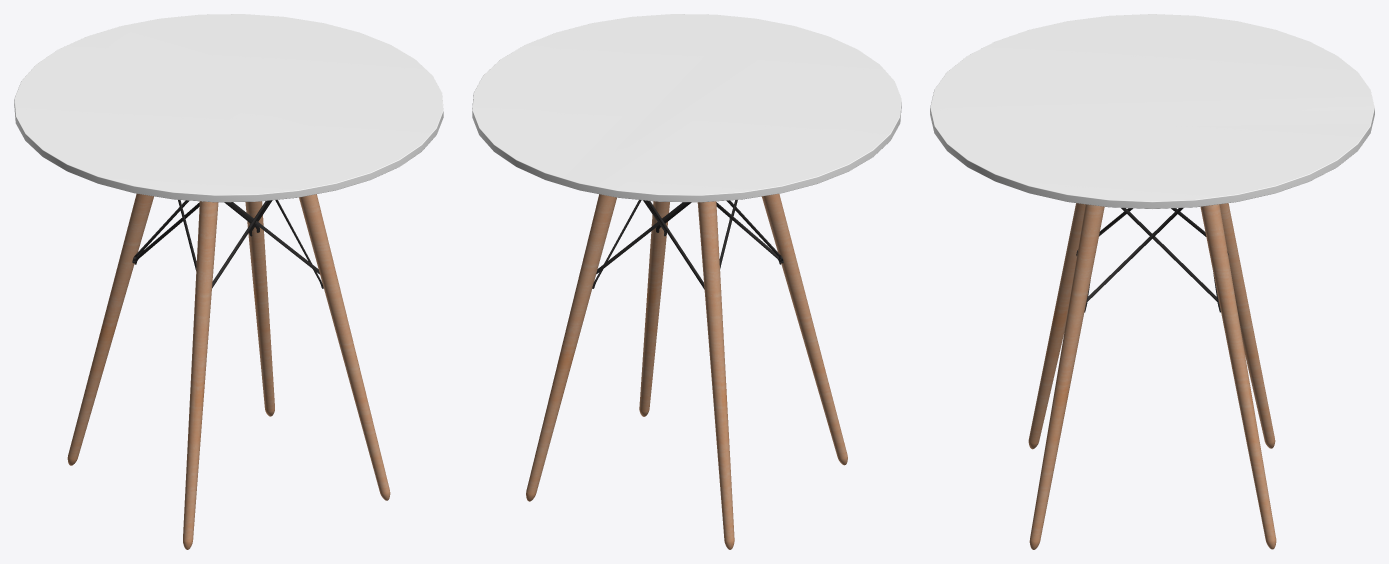
File: nordic_table.glb
The picture shows the model from 3 angles, left to right: view 1: azimuth 30°, elevation 25°; view 2: azimuth 150°, elevation 25°; view 3: azimuth 270°, elevation 25°; orthographic projection. The views are drawn at different scales.
Parts seen in each view (by area): view 1: Furniture_Table_1; view 2: Furniture_Table_1; view 3: Furniture_Table_1.
Part boxes in pixels (<box>): Furniture_Table_1: <box>14,14,443,549</box>; Furniture_Table_1: <box>472,14,901,549</box>; Furniture_Table_1: <box>930,14,1374,549</box>.
Bounding box in the file's own units: 109 × 105 × 109.
1 material, 1 textured.
